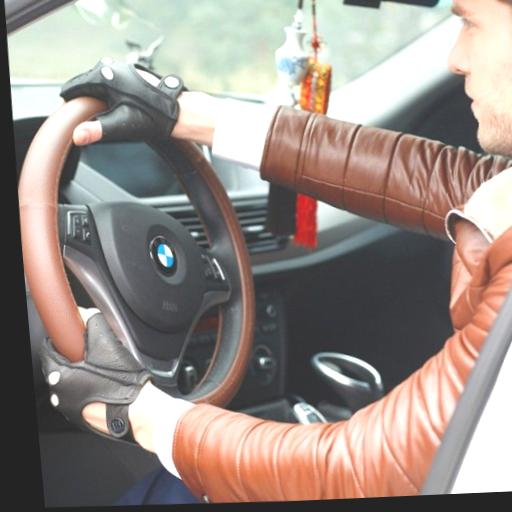Hands-on-the-Wheel: (25, 276, 169, 444), (50, 46, 219, 163)
